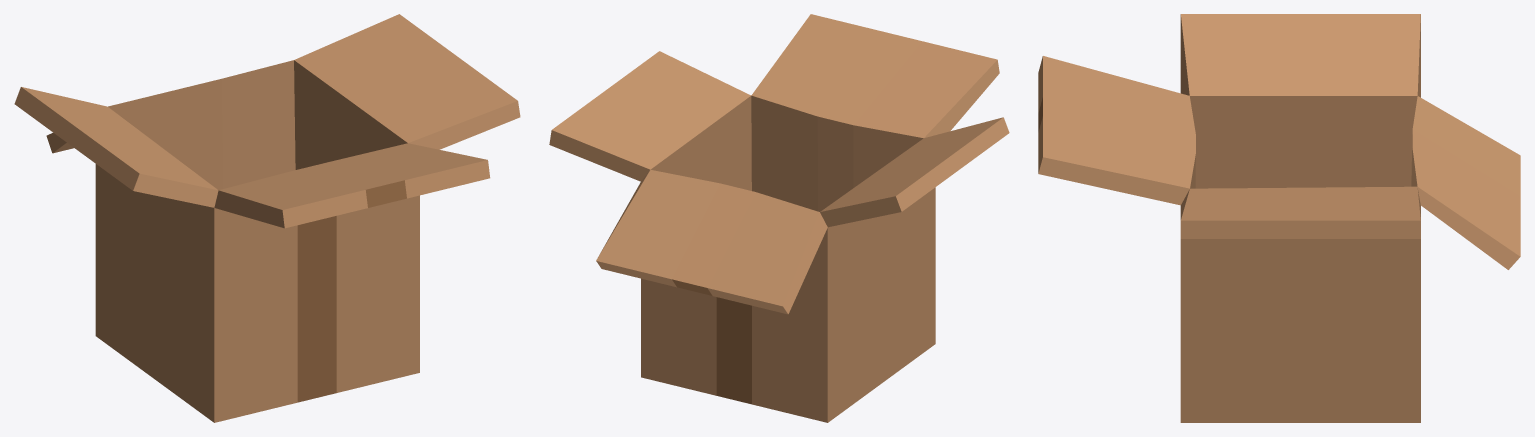
The model's file is BoxOpen1.fbx.
The picture shows the model from 3 angles, left to right: view 1: azimuth 30°, elevation 25°; view 2: azimuth 150°, elevation 25°; view 3: azimuth 270°, elevation 25°; orthographic projection. The views are drawn at different scales.
Visible parts, largest first — view 1: BoxOpen1; view 2: BoxOpen1; view 3: BoxOpen1.
Part boxes in pixels (bbox=[...]): BoxOpen1: bbox=[14, 14, 520, 422]; BoxOpen1: bbox=[549, 14, 1009, 422]; BoxOpen1: bbox=[1038, 14, 1520, 422].
Size of the model in its own units: 119 by 78.53 by 127.
Materials: 1 (1 with a texture image).
